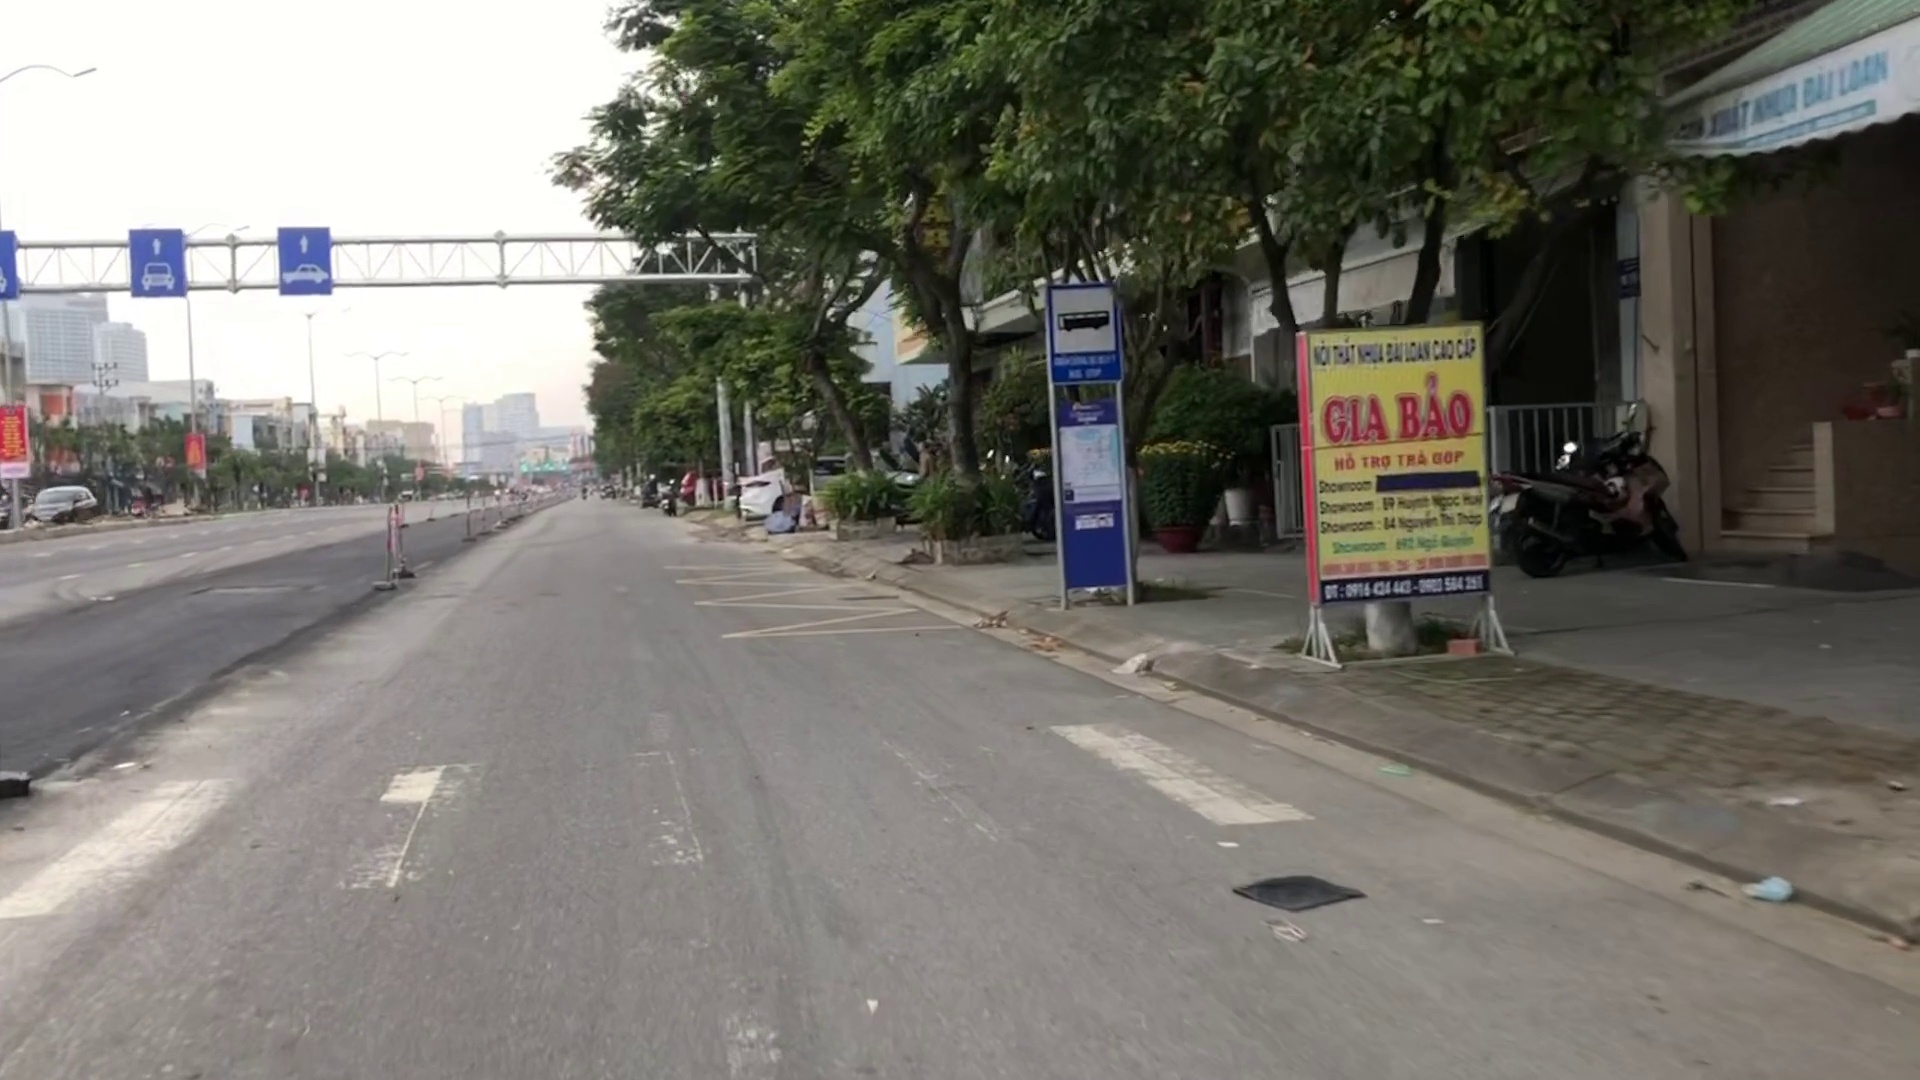Bien khac: (1042, 281, 1125, 384)
